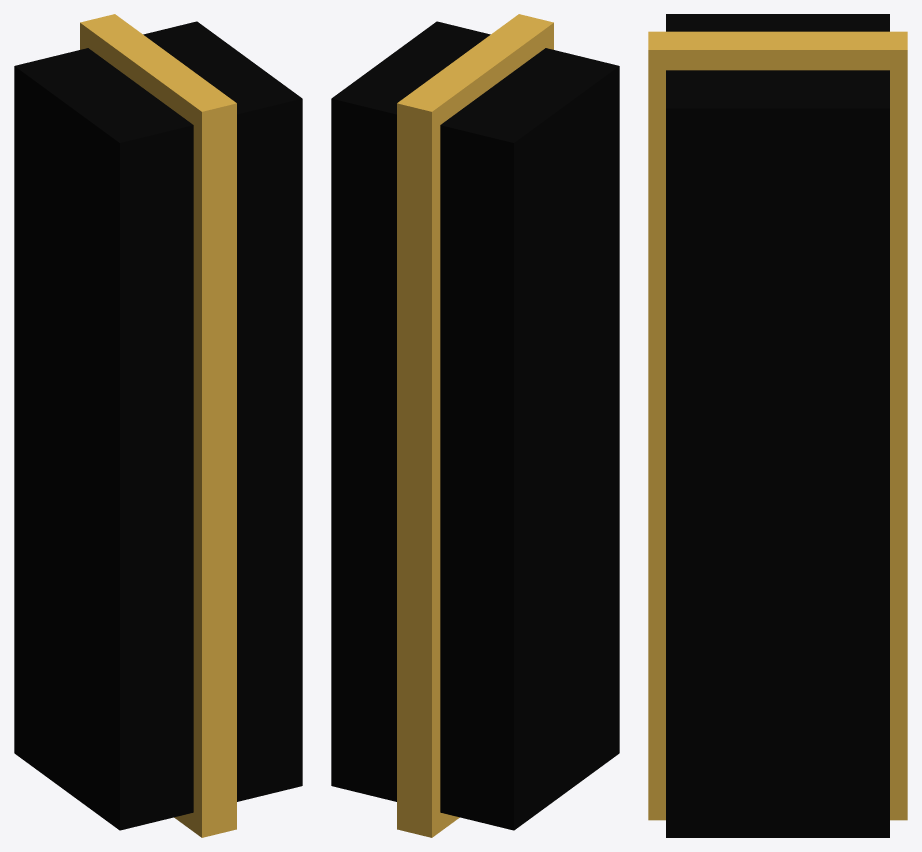
File: Building2.fbx
The picture shows the model from 3 angles, left to right: view 1: azimuth 30°, elevation 25°; view 2: azimuth 150°, elevation 25°; view 3: azimuth 270°, elevation 25°; orthographic projection. The views are drawn at different scales.
Parts seen in each view (by area): view 1: Cube.001; view 2: Cube.001; view 3: Cube.001.
Part boxes in pixels (<box>): Cube.001: <box>14,14,302,837</box>; Cube.001: <box>331,14,619,837</box>; Cube.001: <box>648,14,907,837</box>.
Size of the model in its own units: 2118 by 2451 by 8044.
